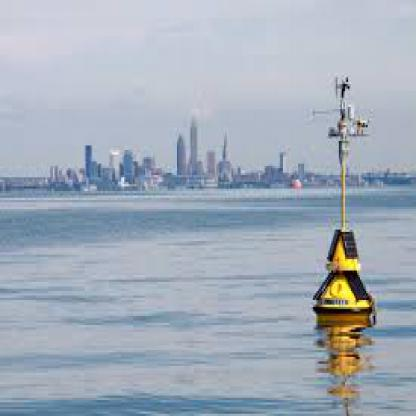buoy: (303, 68, 381, 328)
